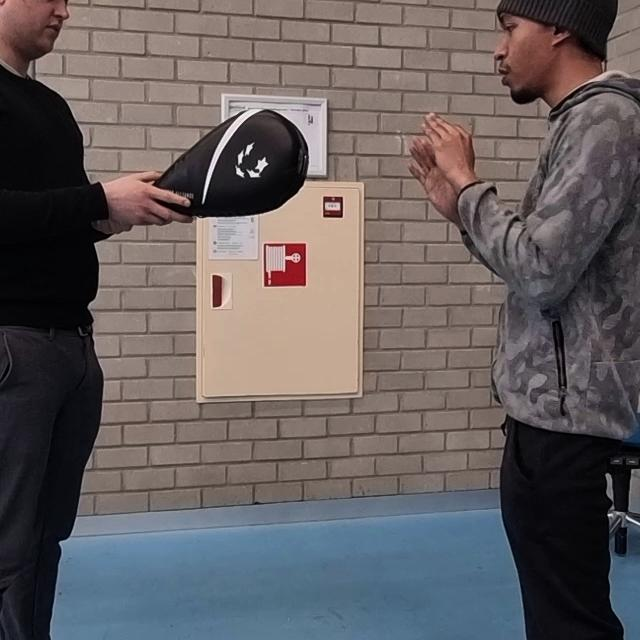paddle: (127, 110, 309, 217)
